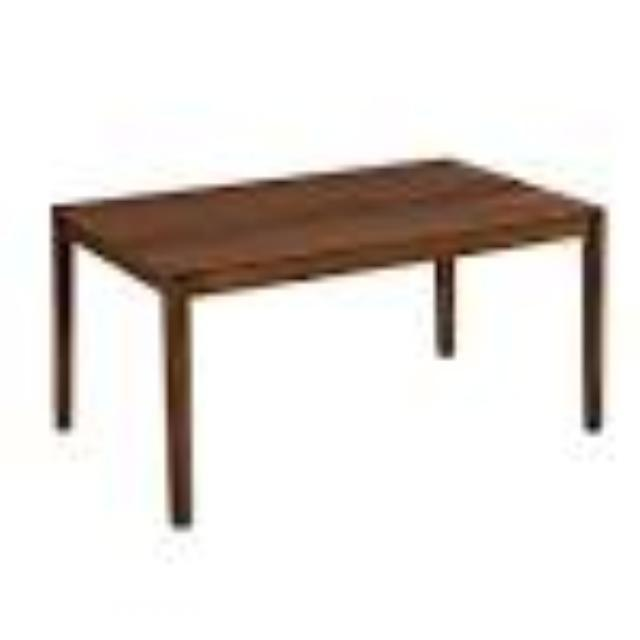obstacle: (24, 90, 614, 512)
